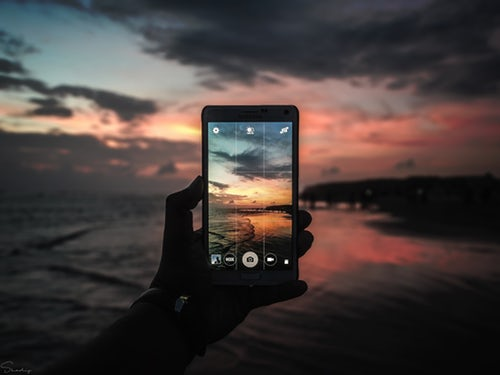phone: (198, 100, 310, 293)
